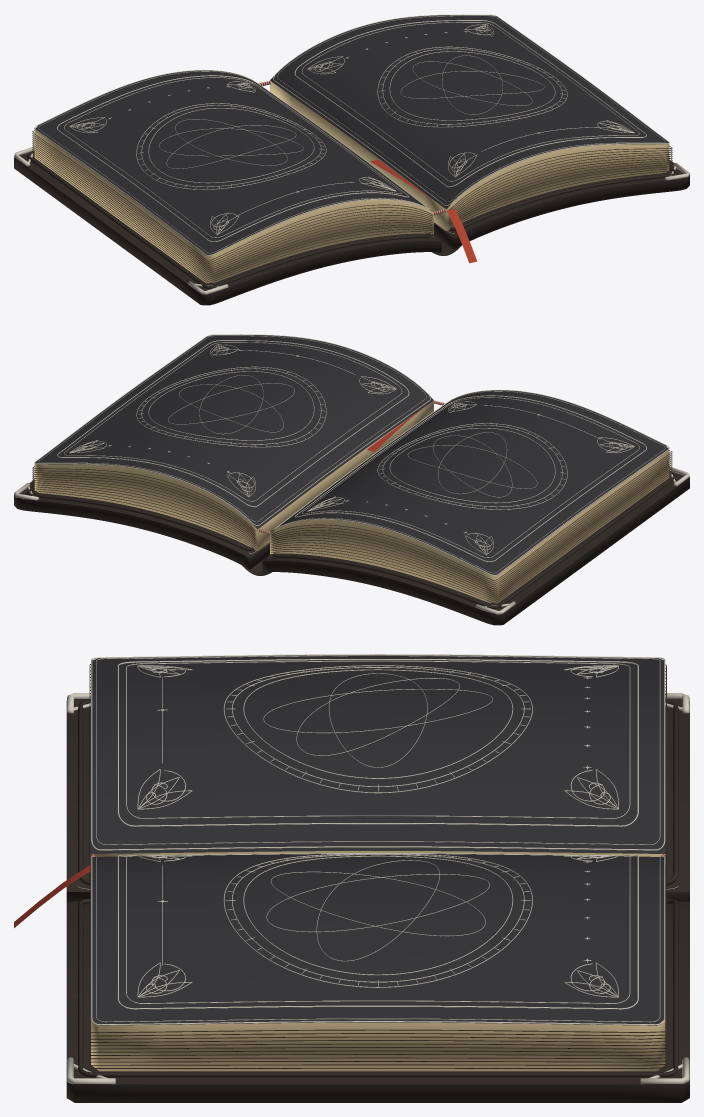
File: almanac-book.glb
The picture shows the model from 3 angles, top to bottom: view 1: azimuth 30°, elevation 25°; view 2: azimuth 150°, elevation 25°; view 3: azimuth 270°, elevation 25°; orthographic projection. The views are drawn at different scales.
Parts seen in each view (by area): view 1: Paper | night black, Page edges | gilt, Leather | tobacco black, Page seams | bronze, Ink | bone engraving, Ink | bone highlight, Thread | rubric silk; view 2: Paper | night black, Page edges | gilt, Leather | tobacco black, Page seams | bronze, Ink | bone engraving, Ink | bone highlight; view 3: Paper | night black, Leather | tobacco black, Page edges | gilt, Ink | bone engraving, Ink | bone highlight, Page seams | bronze.
Part boxes in pixels (bbox=[...]): Paper | night black: bbox=[35, 15, 668, 255]; Page edges | gilt: bbox=[34, 81, 669, 283]; Leather | tobacco black: bbox=[14, 150, 689, 305]; Page seams | bronze: bbox=[32, 130, 672, 283]; Ink | bone engraving: bbox=[28, 15, 676, 286]; Ink | bone highlight: bbox=[14, 14, 689, 294]; Thread | rubric silk: bbox=[259, 81, 477, 263]; Paper | night black: bbox=[35, 335, 668, 575]; Page edges | gilt: bbox=[34, 401, 669, 603]; Leather | tobacco black: bbox=[14, 470, 689, 625]; Page seams | bronze: bbox=[32, 450, 672, 603]; Ink | bone engraving: bbox=[27, 335, 675, 606]; Ink | bone highlight: bbox=[14, 334, 689, 614]; Paper | night black: bbox=[91, 655, 665, 1025]; Leather | tobacco black: bbox=[66, 699, 689, 1102]; Page edges | gilt: bbox=[91, 851, 665, 1071]; Ink | bone engraving: bbox=[73, 655, 682, 1078]; Ink | bone highlight: bbox=[67, 654, 689, 1084]; Page seams | bronze: bbox=[89, 664, 666, 1068].
Bounding box in the file's own units: 2.8 × 0.4035 × 2.06.
